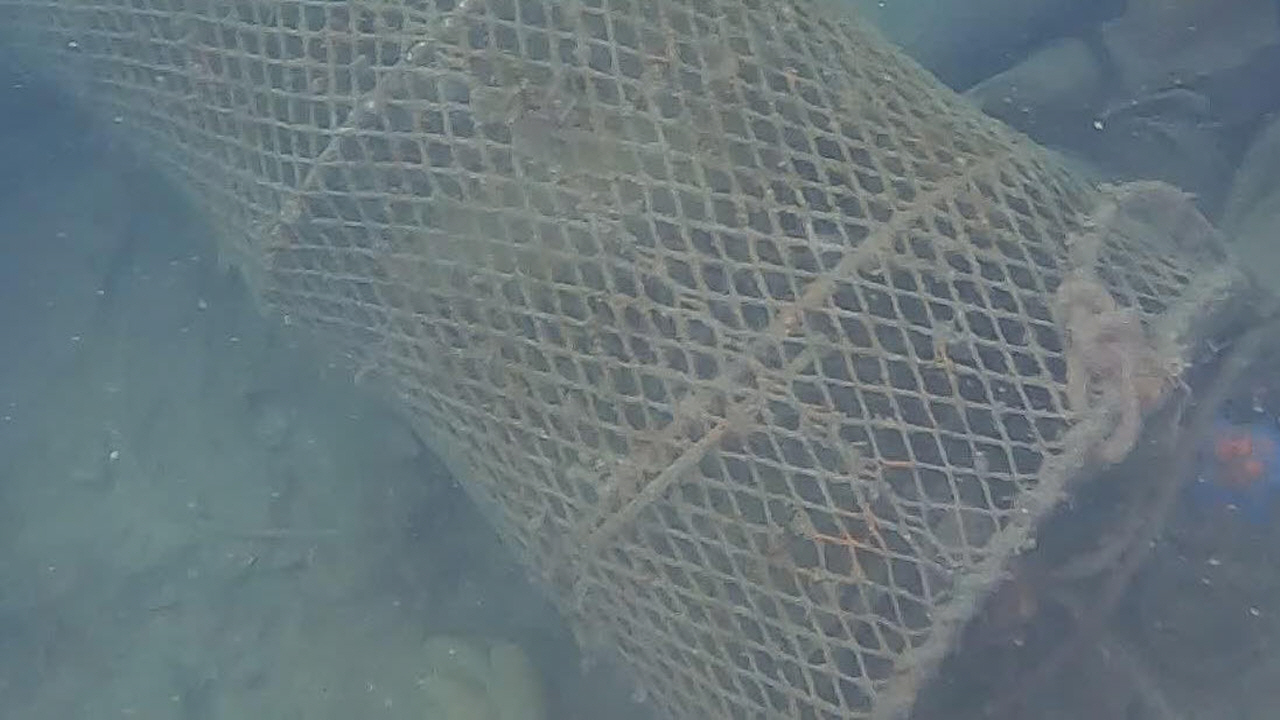spring fish trap: (0, 0, 1260, 720)
